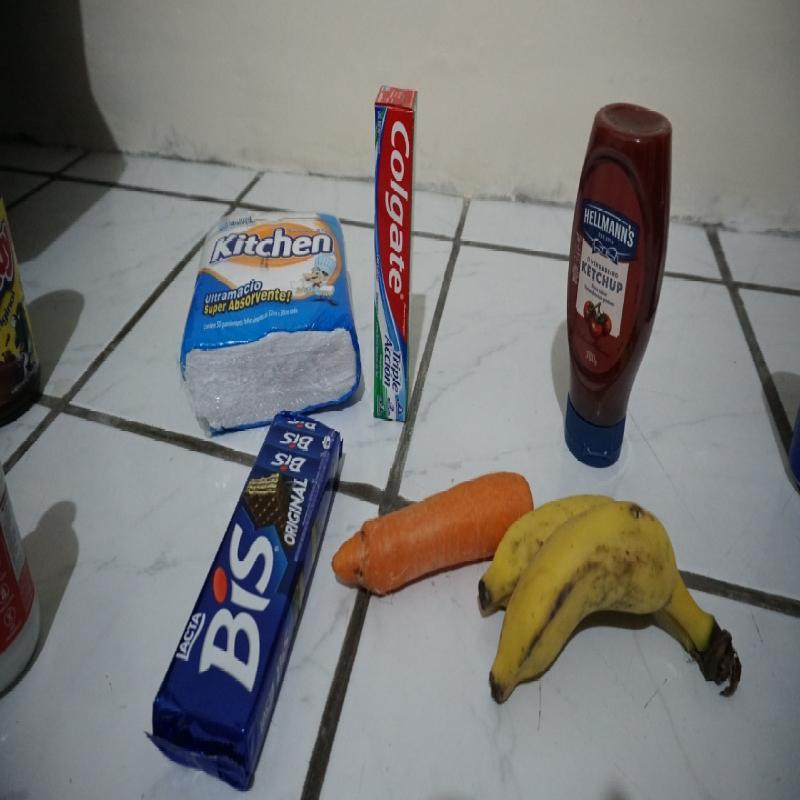Banana: (480, 494, 743, 703)
Carrot: (333, 471, 533, 596)
Chocolate Powder: (0, 175, 41, 435)
Coconut Milk: (1, 446, 45, 705)
Ketchup: (565, 103, 670, 466)
Napkin: (183, 214, 362, 433)
Toothpaste: (374, 86, 417, 424)
